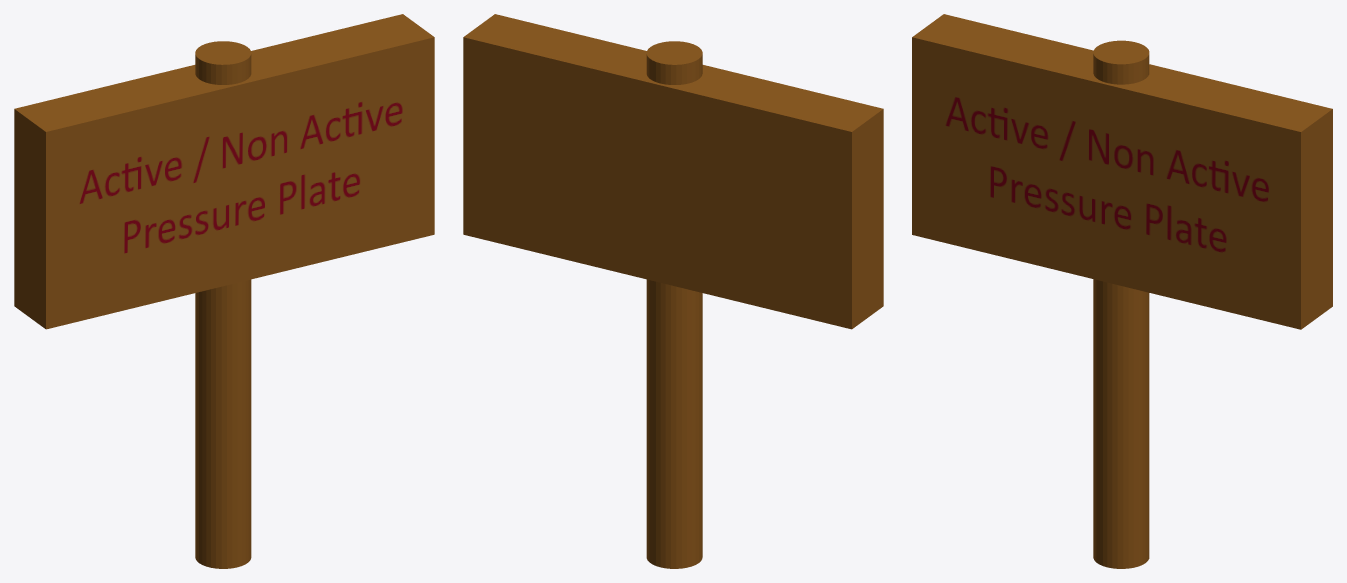
Rendered from ActiveNonActivePressurePlateSign.fbx.
3 renders of one model, left to right at view 1: azimuth 30°, elevation 25°; view 2: azimuth 150°, elevation 25°; view 3: azimuth 330°, elevation 25°, orthographic.
Visible parts, largest first — view 1: Cube.002, Cylinder.002; view 2: Cube.002, Cylinder.002; view 3: Cube.002, Cylinder.002.
Part boxes in pixels (x1=…): Cube.002: x1=14, y1=14, x2=434, y2=329; Cylinder.002: x1=195, y1=41, x2=251, y2=568; Cube.002: x1=463, y1=14, x2=883, y2=329; Cylinder.002: x1=646, y1=41, x2=702, y2=568; Cube.002: x1=912, y1=14, x2=1332, y2=329; Cylinder.002: x1=1093, y1=40, x2=1149, y2=568.
Size of the model in its own units: 0.5827 by 4.12 by 5.11.
3 materials, 1 textured.
